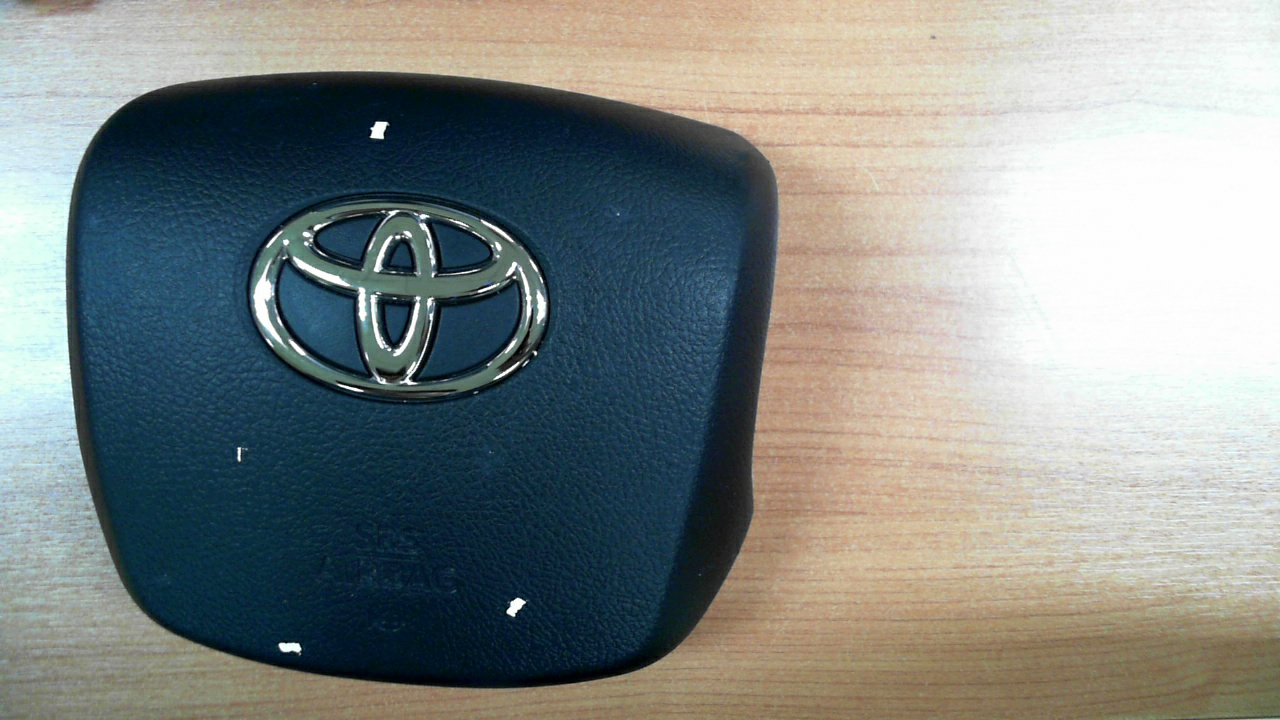Airbag: (65, 71, 778, 691)
Mark: (506, 597, 527, 618), (369, 121, 390, 139), (278, 642, 302, 656), (236, 447, 249, 463), (617, 212, 620, 216)
